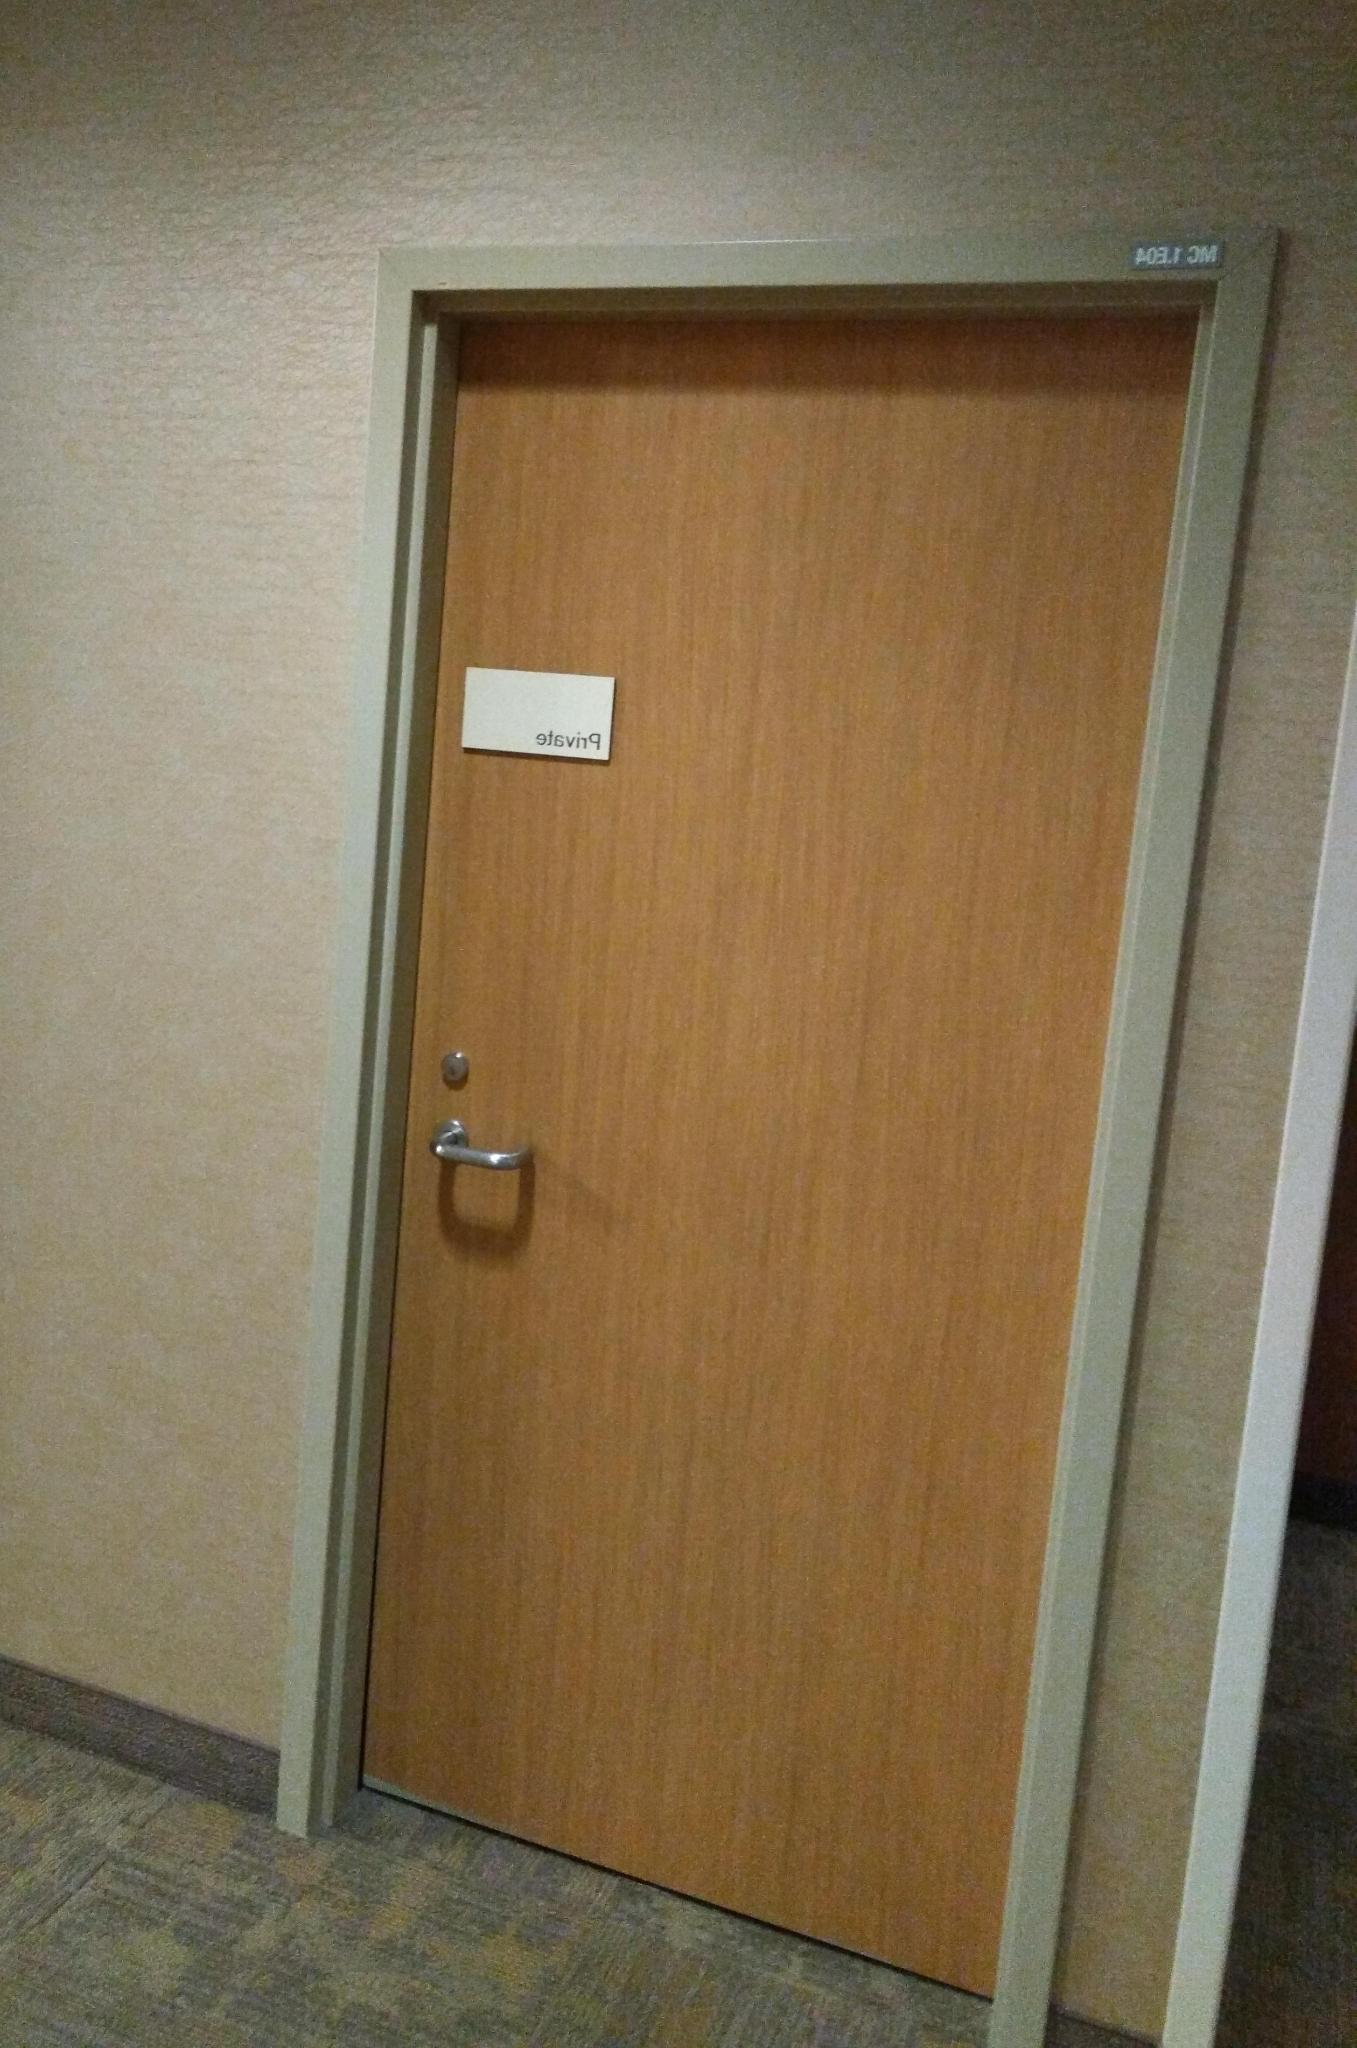door: (409, 350, 1069, 1891)
handle: (435, 1123, 521, 1202)
